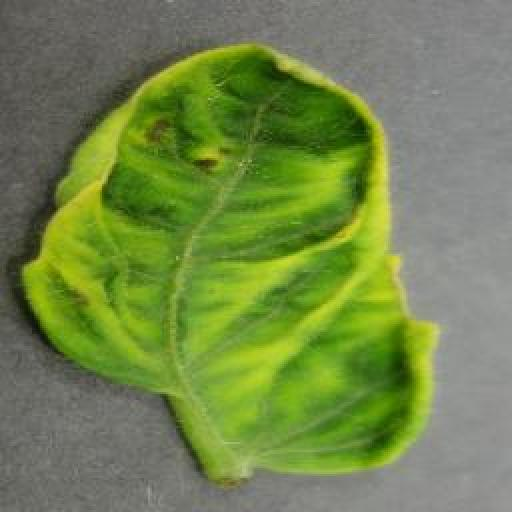disease_tomato: (18, 40, 440, 481)
